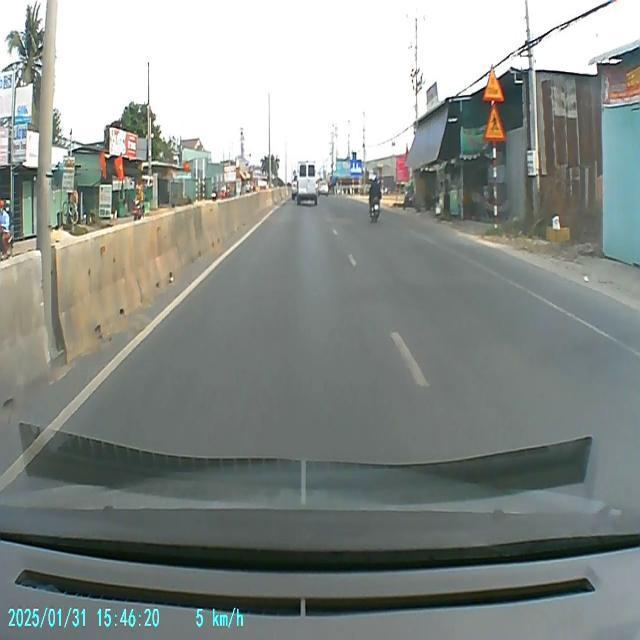224-duong-nguoi-di-bo-cat-ngang: (484, 104, 504, 140)
245-di-cham: (483, 63, 505, 105)
420-bat-dau-khu-dong-dan-cu: (349, 158, 363, 176)
